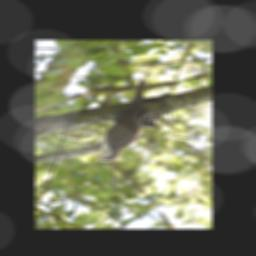Cuckoo: (89, 78, 149, 163)
